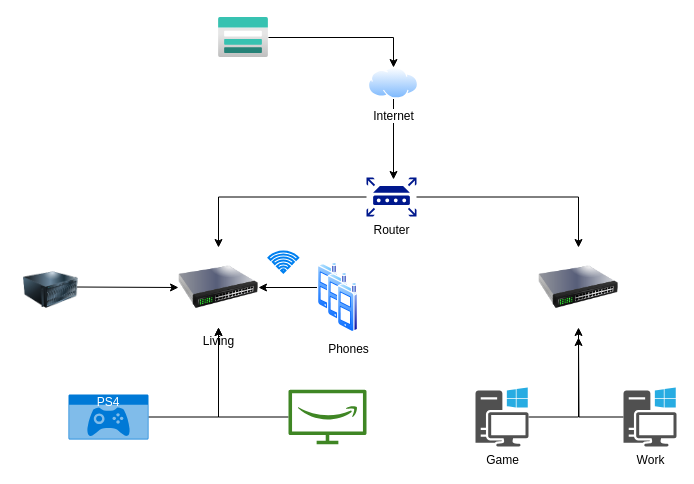
Image size: 694x484. Some labels were removed from this diagram. Each missing label, with the box of its shape:
Az Blob (Backup): (218, 17, 268, 57)
Master: (538, 247, 618, 327)
MediaServer: (23, 262, 78, 317)
TV: (288, 389, 366, 444)
